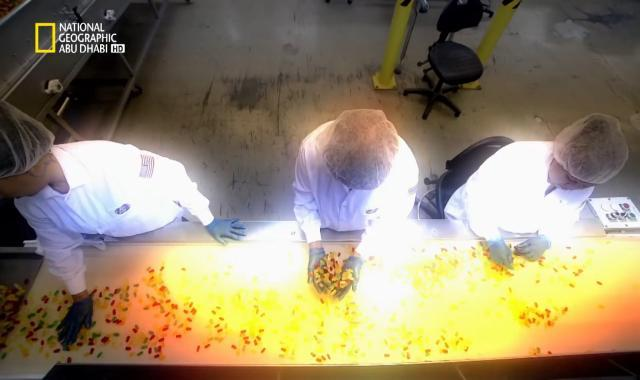hairnet: (550, 108, 628, 195), (316, 108, 399, 188), (0, 102, 58, 180)
